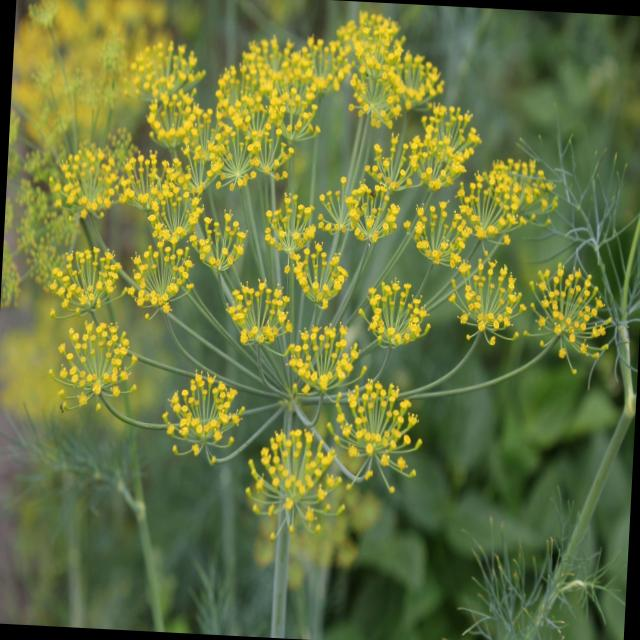Dill: (28, 0, 629, 562)
